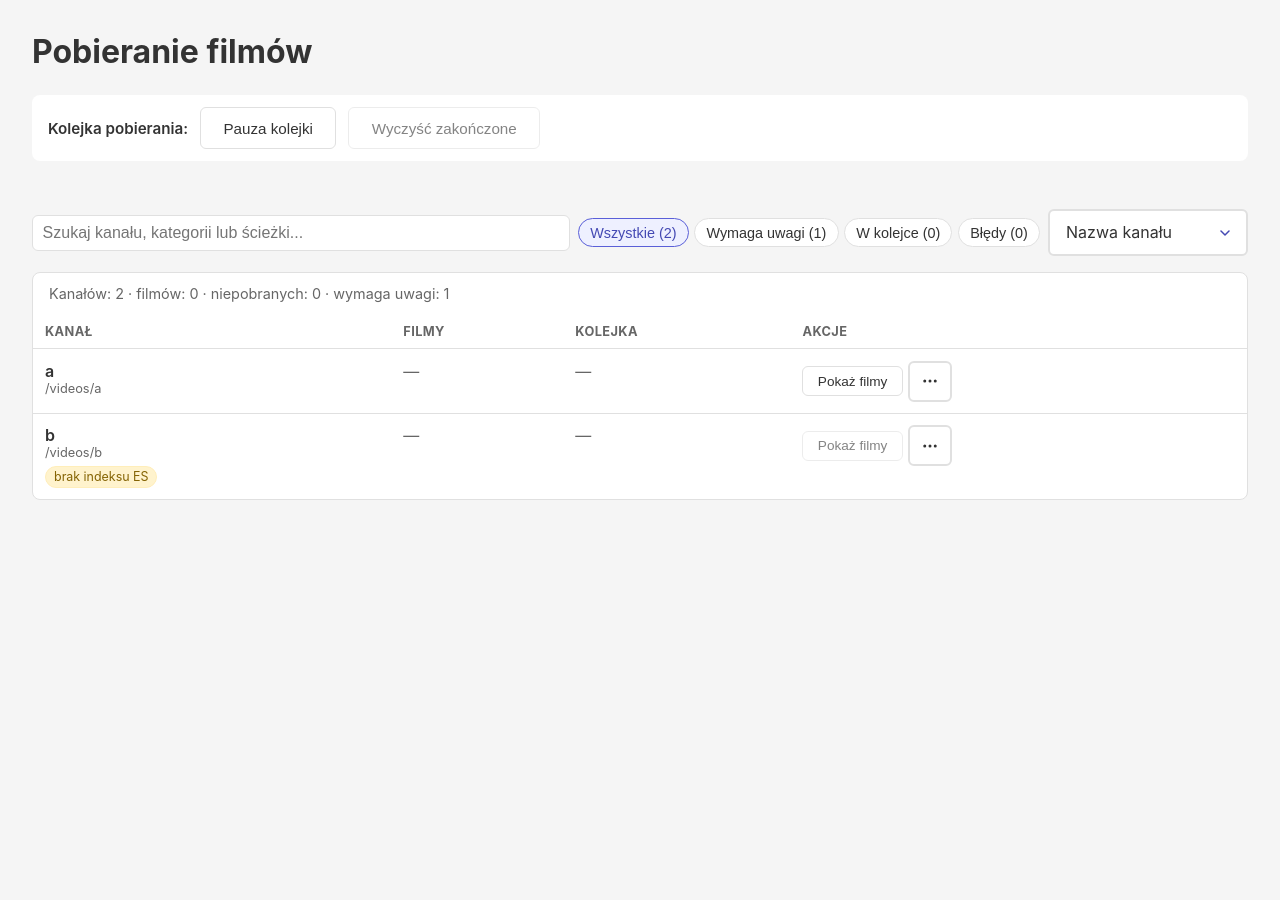
Test: StatusPage › fetches a playlist from a row with no list, then opens the row it unlocked
Expected: the button "Pokaż filmy" in the row of "/videos/b" is disabled, 802,431 -> 903,461
Click the button named "Więcej akcji" in the row of "/videos/b" at [930, 446], box 908,425 -> 952,466
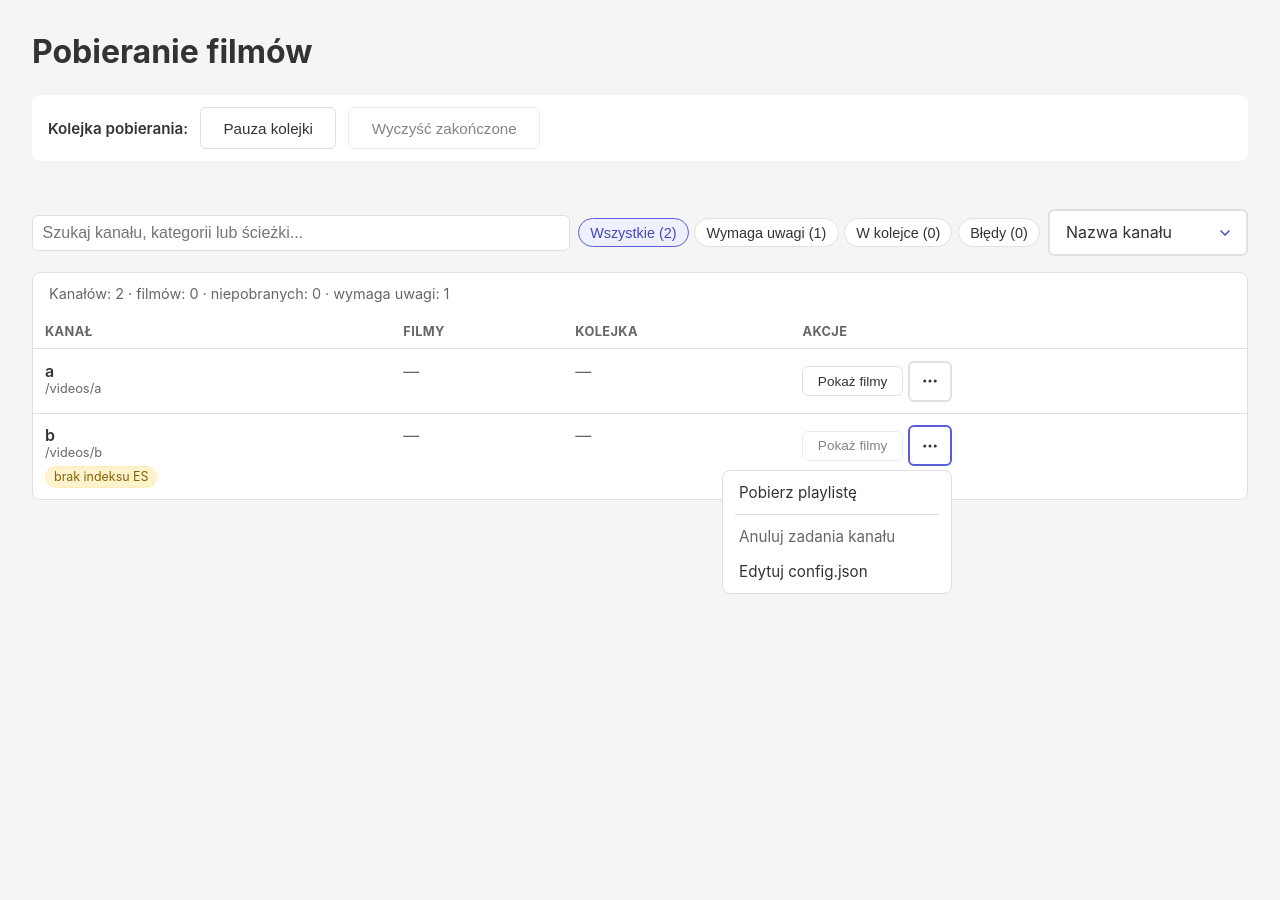
Click the menu item "Pobierz playlistę" at [798, 492], box 739,483 -> 857,502
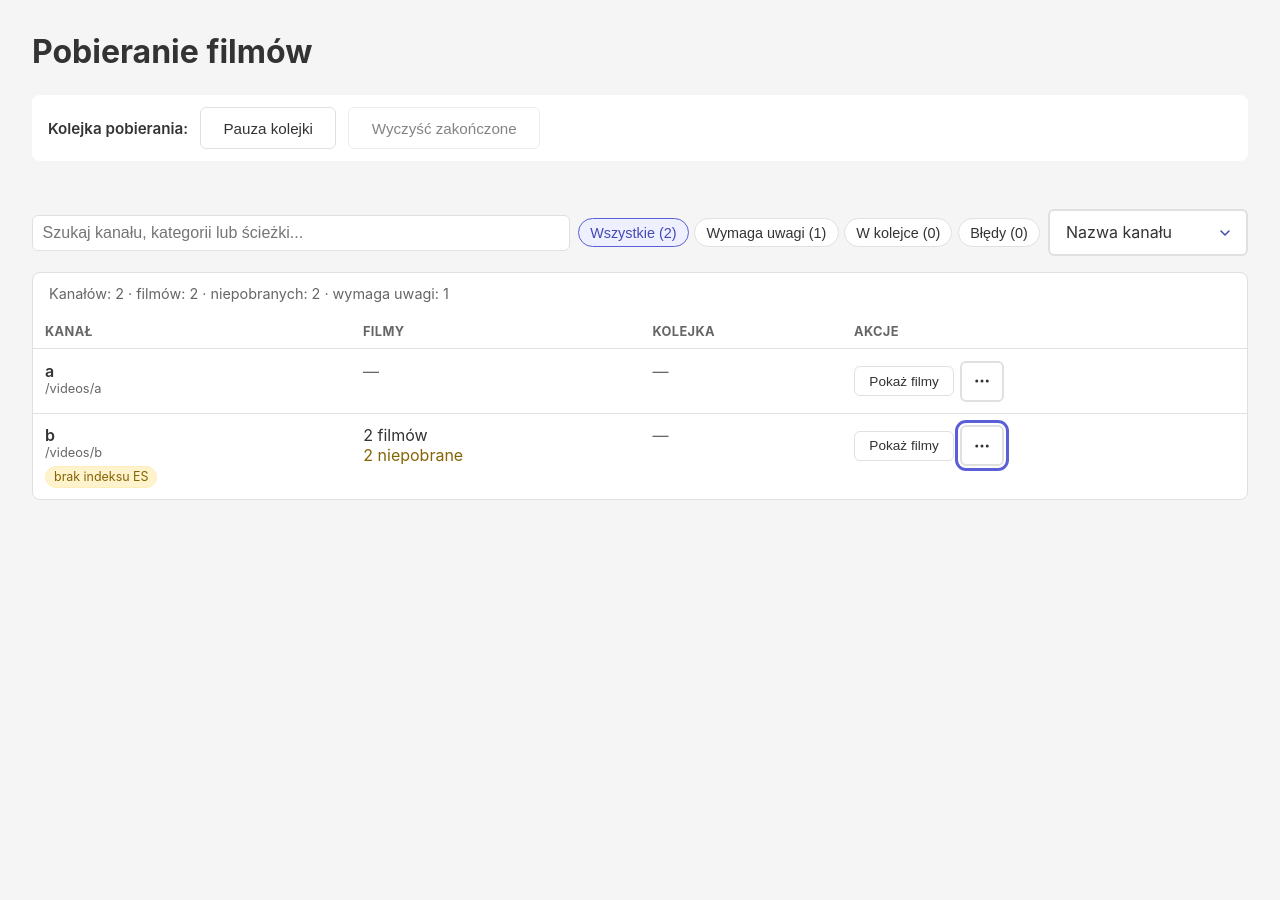
Result: the text "2 filmów" is shown at 363,425 -> 428,445
Result: the button "Pokaż filmy" in the row of "/videos/b" is enabled
The list.json that arrived is what the toggle was waiting for
Click the button "Pokaż filmy" in the row of "/videos/b" at [904, 446], box 854,431 -> 954,461
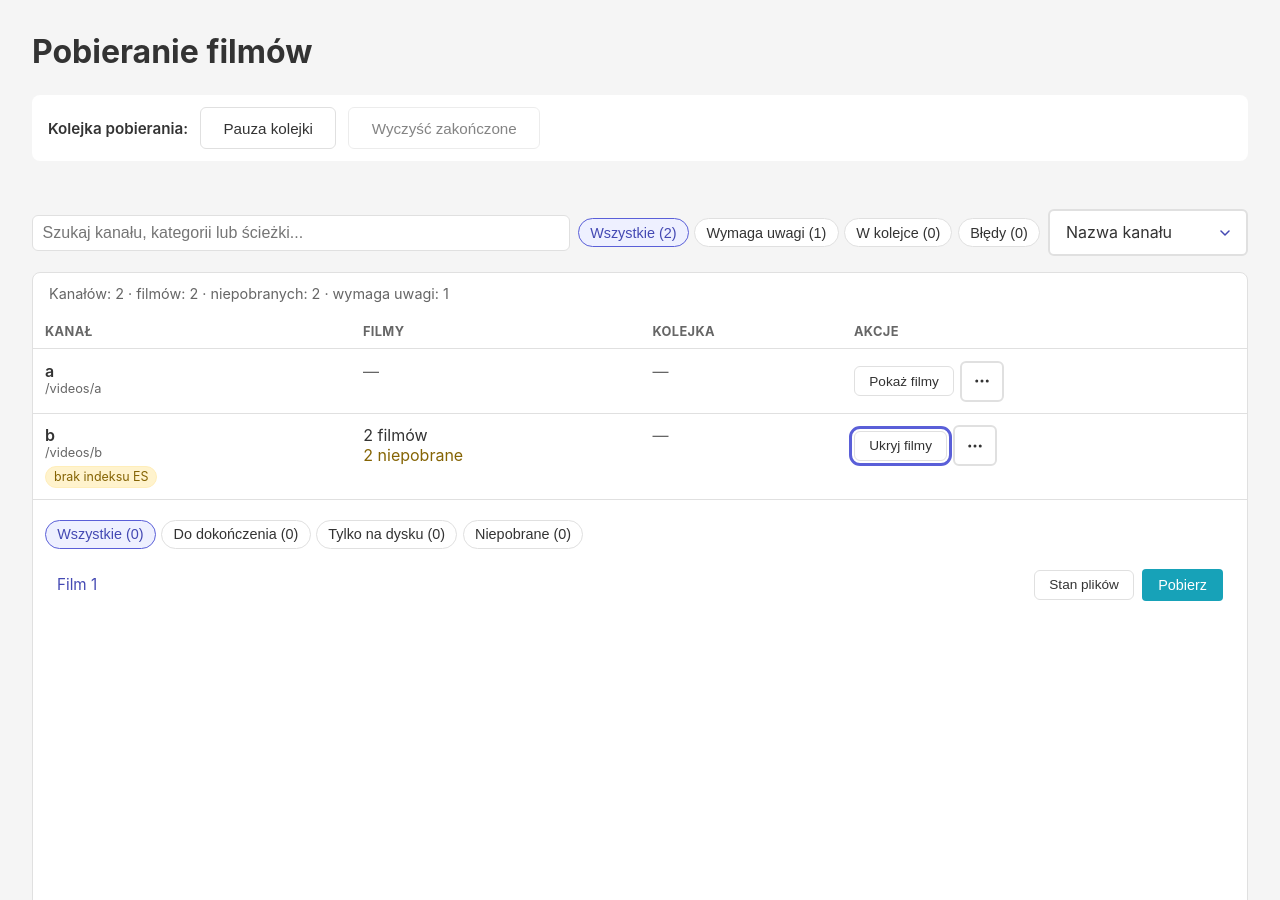
Result: the link "Film 1" is shown at 57,575 -> 97,594
